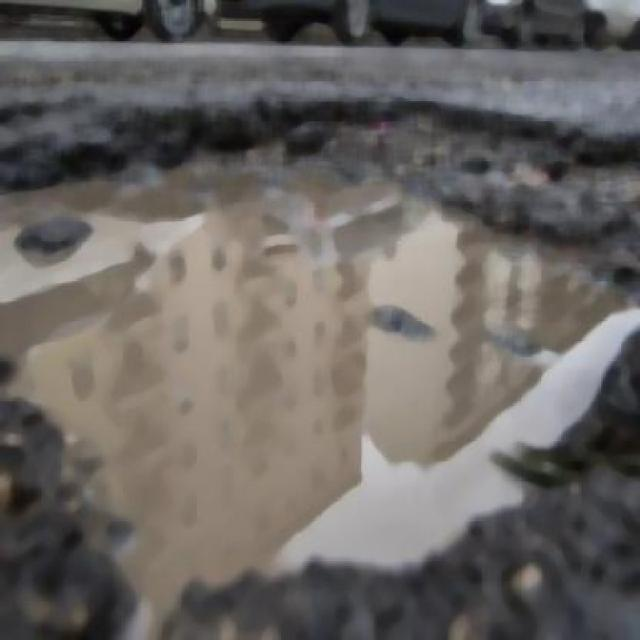Pothole: (0, 158, 628, 564)
